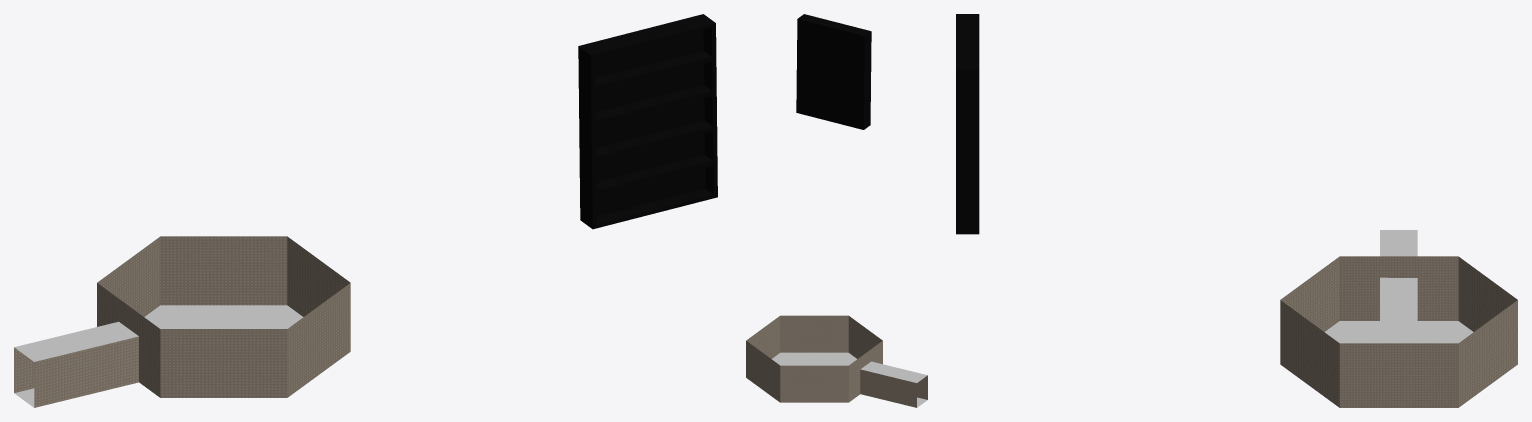
File: room2.obj
3 views of the same model, side by side, from view 1: azimuth 30°, elevation 25°; view 2: azimuth 150°, elevation 25°; view 3: azimuth 270°, elevation 25° (orthographic). The views are drawn at different scales.
Visible parts, largest first — view 1: Circle, Bookcase_Standard, Circle.001, Object, Circle.003; view 2: Circle, Bookcase_Standard, Circle.001, Object, Circle.003; view 3: Circle, Bookcase_Standard, Object, Circle.003.
Part boxes in pixels (left/top/right/bottom): Circle: left=97, top=236, right=350, bottom=397; Bookcase_Standard: left=578, top=14, right=717, bottom=229; Circle.001: left=14, top=336, right=138, bottom=407; Object: left=135, top=305, right=303, bottom=333; Circle.003: left=14, top=321, right=138, bottom=407; Circle: left=746, top=315, right=882, bottom=402; Bookcase_Standard: left=796, top=14, right=871, bottom=129; Circle.001: left=860, top=369, right=927, bottom=407; Object: left=772, top=352, right=856, bottom=365; Circle.003: left=860, top=361, right=927, bottom=407; Circle: left=1280, top=256, right=1517, bottom=407; Bookcase_Standard: left=956, top=14, right=979, bottom=234; Object: left=1324, top=321, right=1473, bottom=343; Circle.003: left=1380, top=230, right=1417, bottom=320.
Size of the model in its own units: 20.83 by 19.11 by 23.64.
